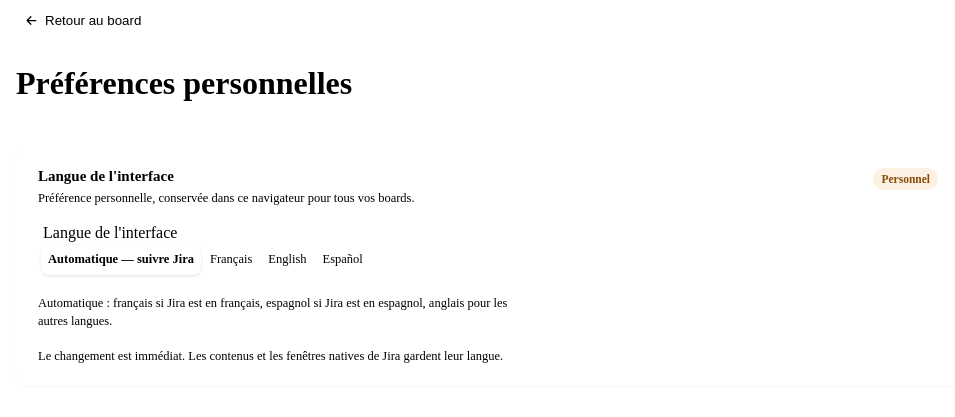
Test case: signale un échec de sauvegarde dans la nouvelle langue tout en l'appliquant
Click the radio button labelled "English": (287, 259) [268,252,306,266]
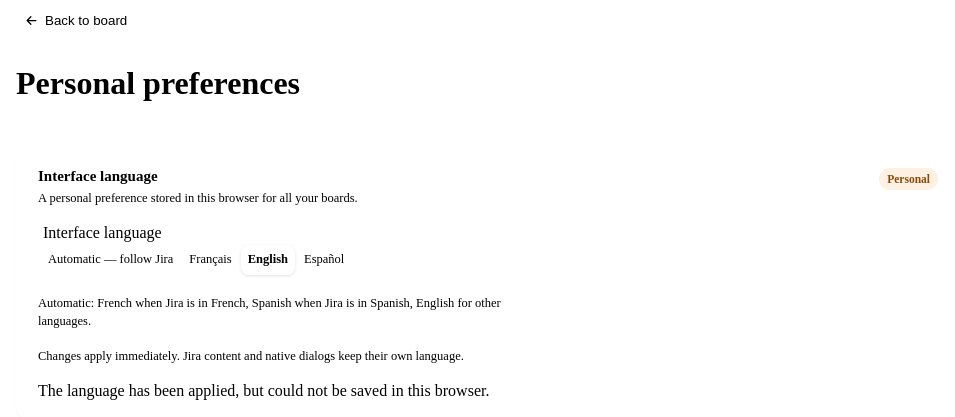
Expected: the message "The language has been applied, but could not be saved in this browser." is shown, [38,382,489,399]
Expected: the text "Interface language" is shown, [38,168,158,184]
